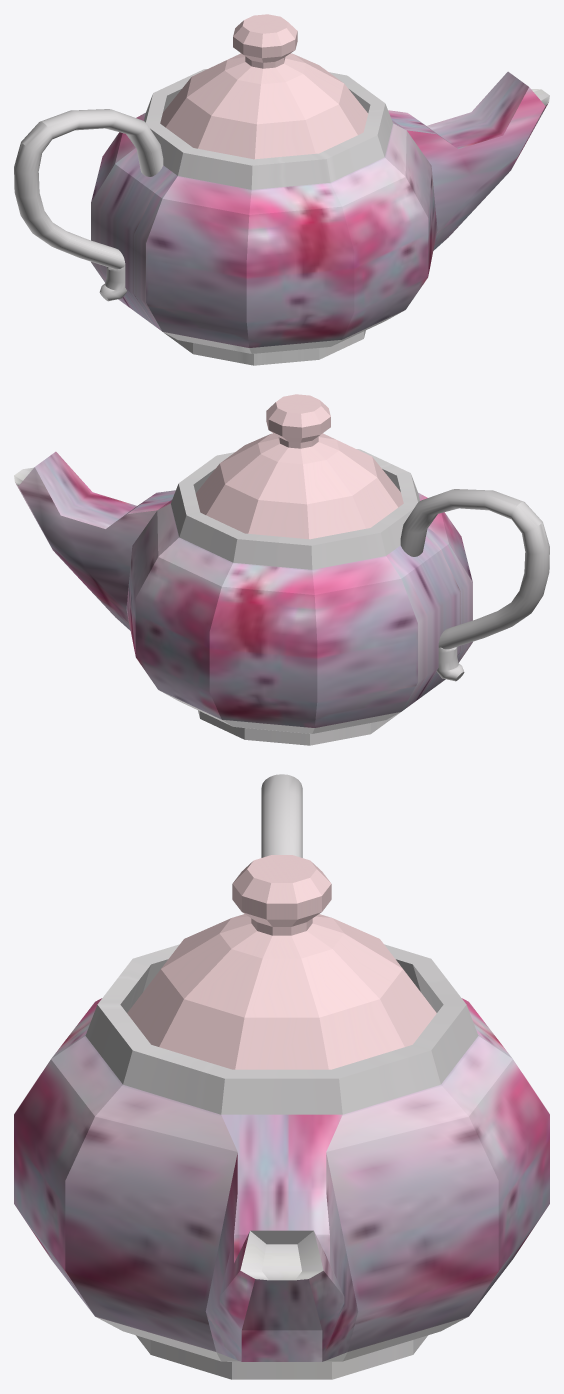
File: tea_pot_model.fbx
3 renders of one model, top to bottom at view 1: azimuth 30°, elevation 25°; view 2: azimuth 150°, elevation 25°; view 3: azimuth 270°, elevation 25°, orthographic. The views are drawn at different scales.
Parts seen in each view (by area): view 1: pCylinder18; view 2: pCylinder18; view 3: pCylinder18.
Boxes of the visible parts, x1,y1,x2,y2 form: pCylinder18: (14,14,549,365); pCylinder18: (14,394,549,745); pCylinder18: (14,774,549,1379).
Bounding box in the file's own units: 0.0343 × 0.0183 × 0.02.
